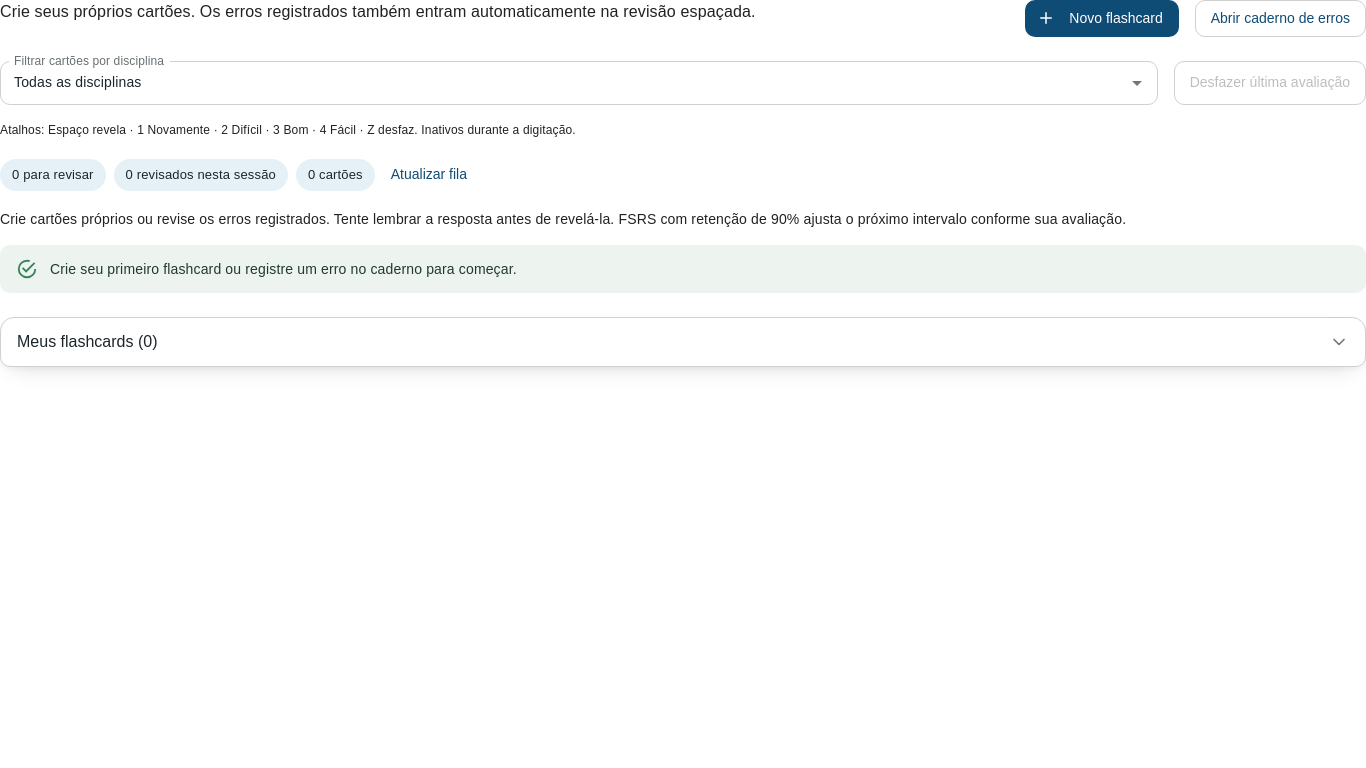
Scenario: keeps the editor and entered text open when saving fails
expect the text "Crie seu primeiro flashcard" is shown: met, box [50,261,517,277]
Click the button "Novo flashcard": [1102, 18] box [1025,0,1179,36]
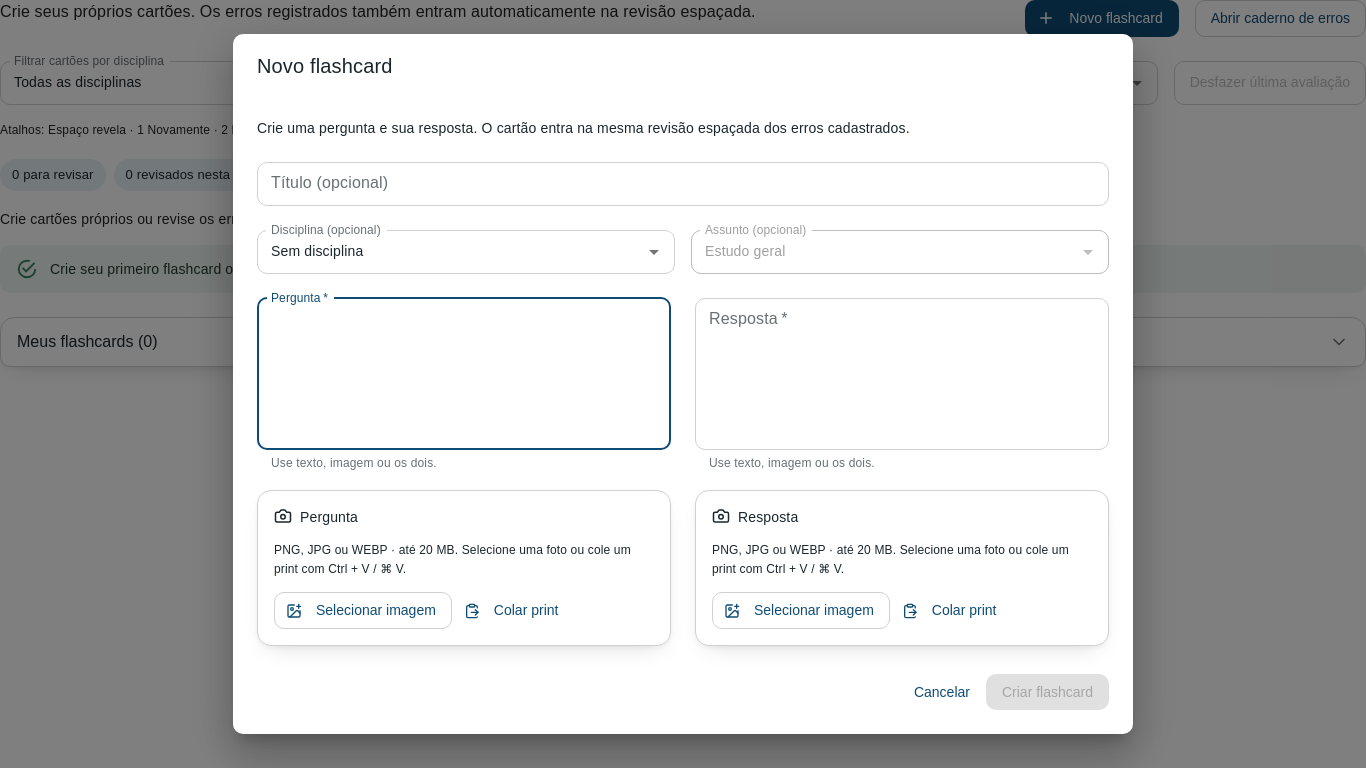
In the text box labelled "Pergunta": [464, 374] box [271,306,657,441], type "Minha pergunta"
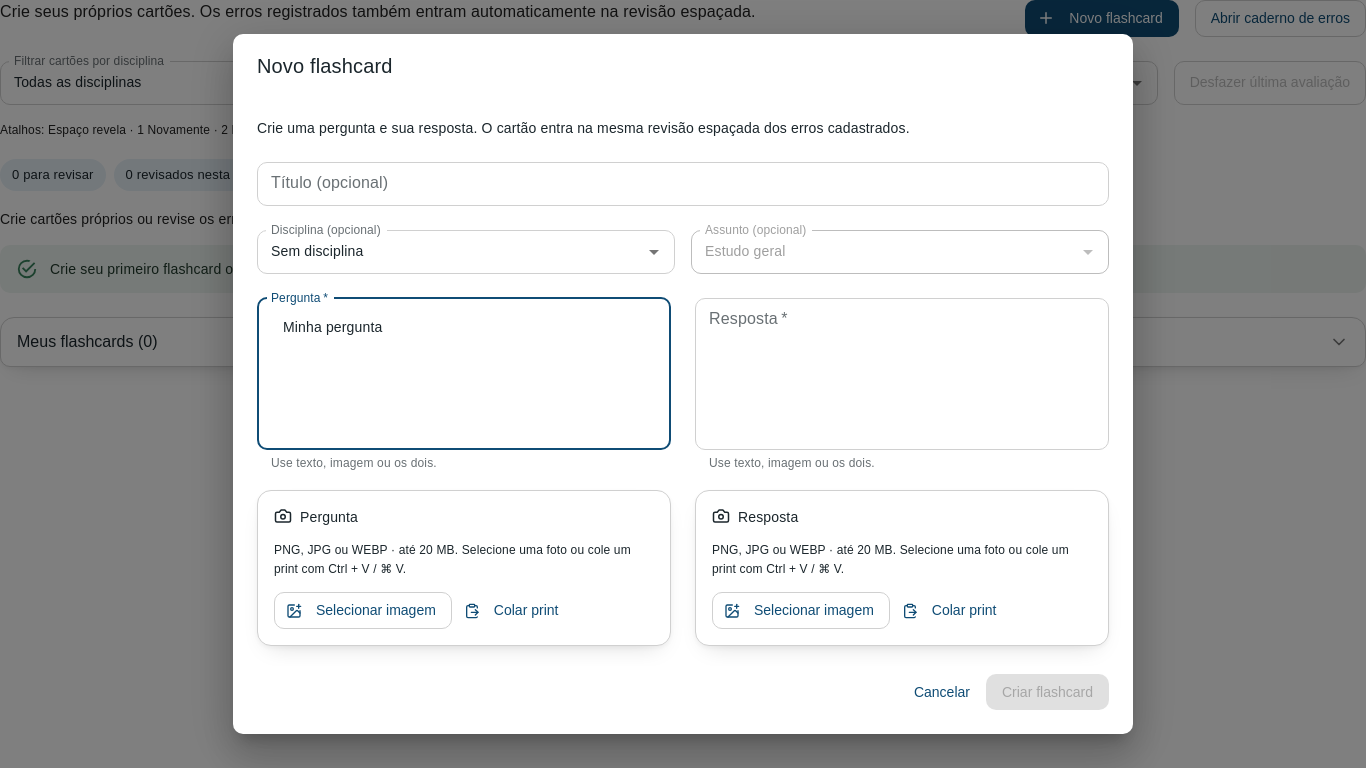
In the text box labelled "Resposta": [902, 374] box [709,306,1095,441], type "Minha resposta"
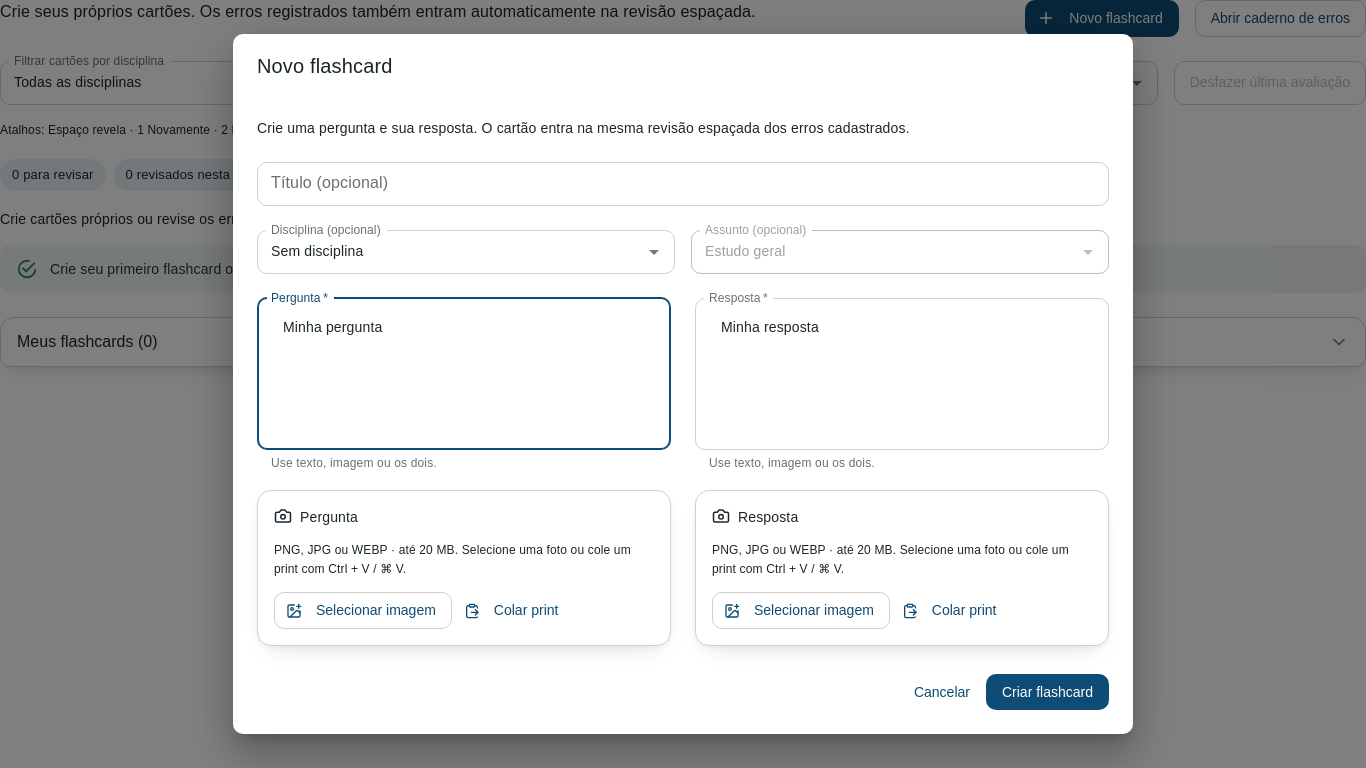
Click the button "Criar flashcard": [1048, 692] box [986,674,1109,710]
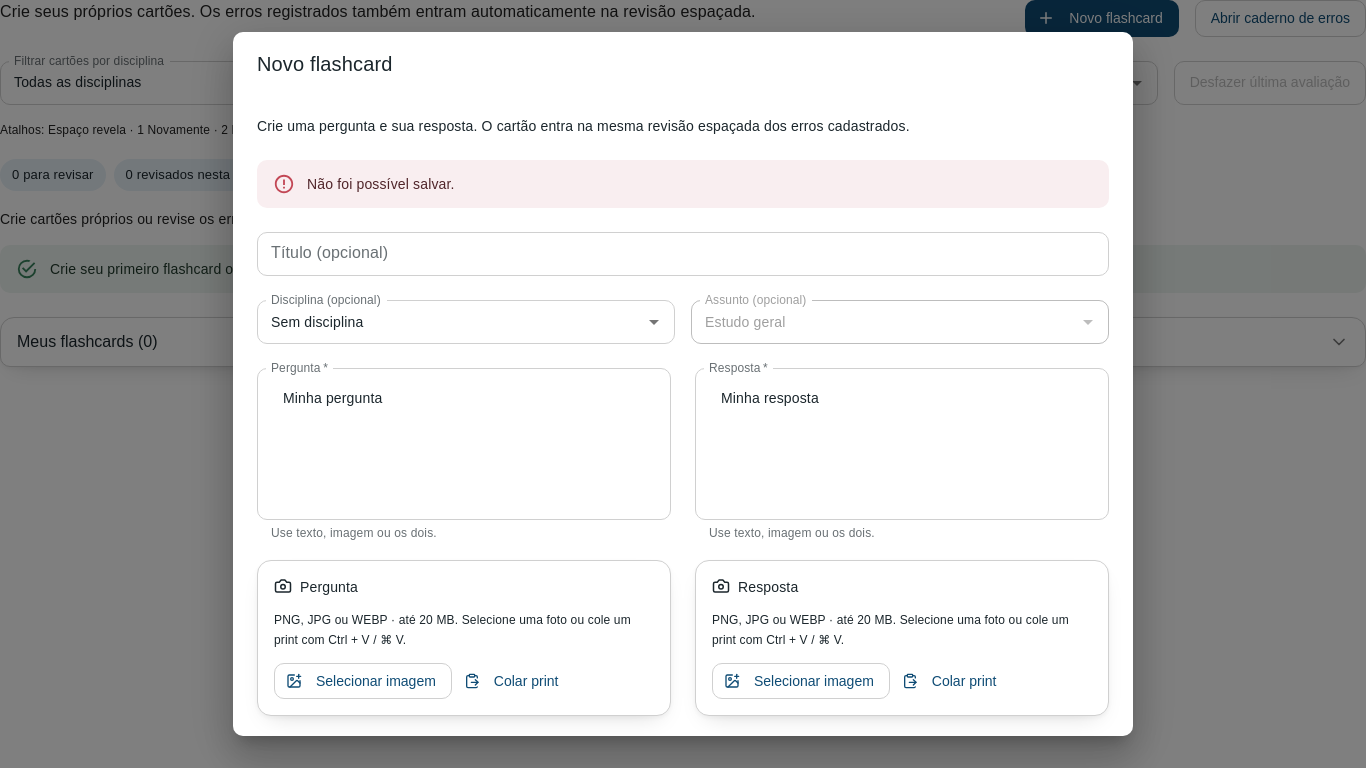
expect the text "Não foi possível salvar." is shown: met, box [307,176,455,192]
